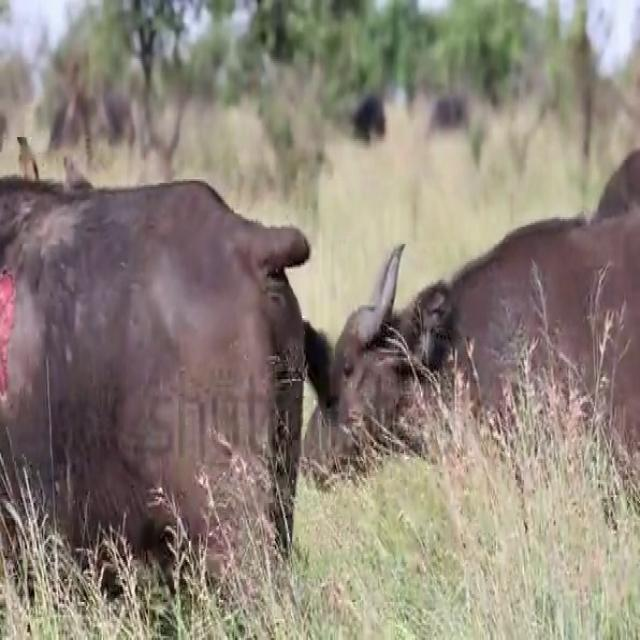injured-animals: (0, 119, 297, 594)
normal_animals: (326, 194, 640, 608)
